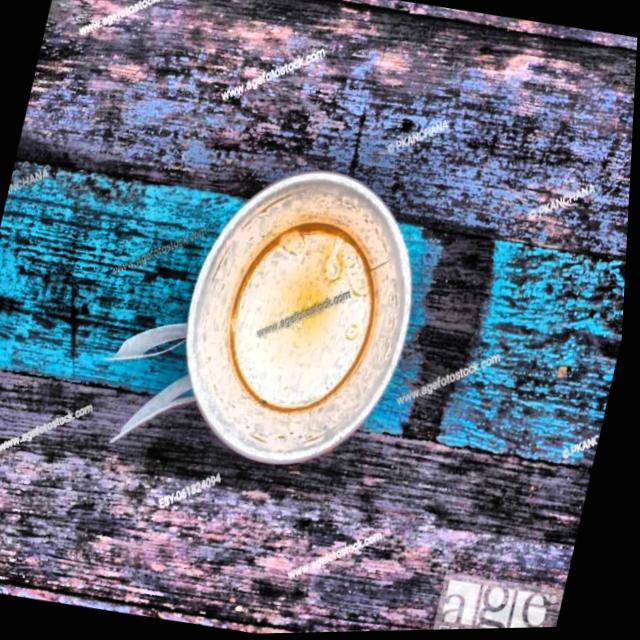Cup: (163, 150, 449, 499)
